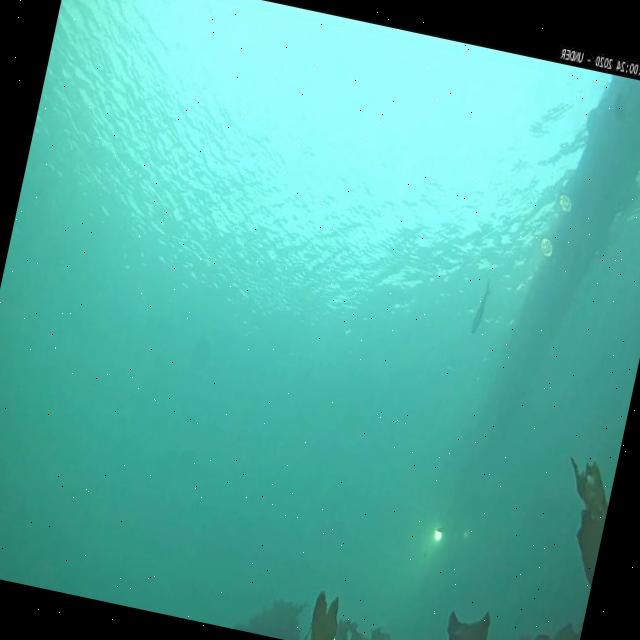fish: (468, 276, 494, 337)
